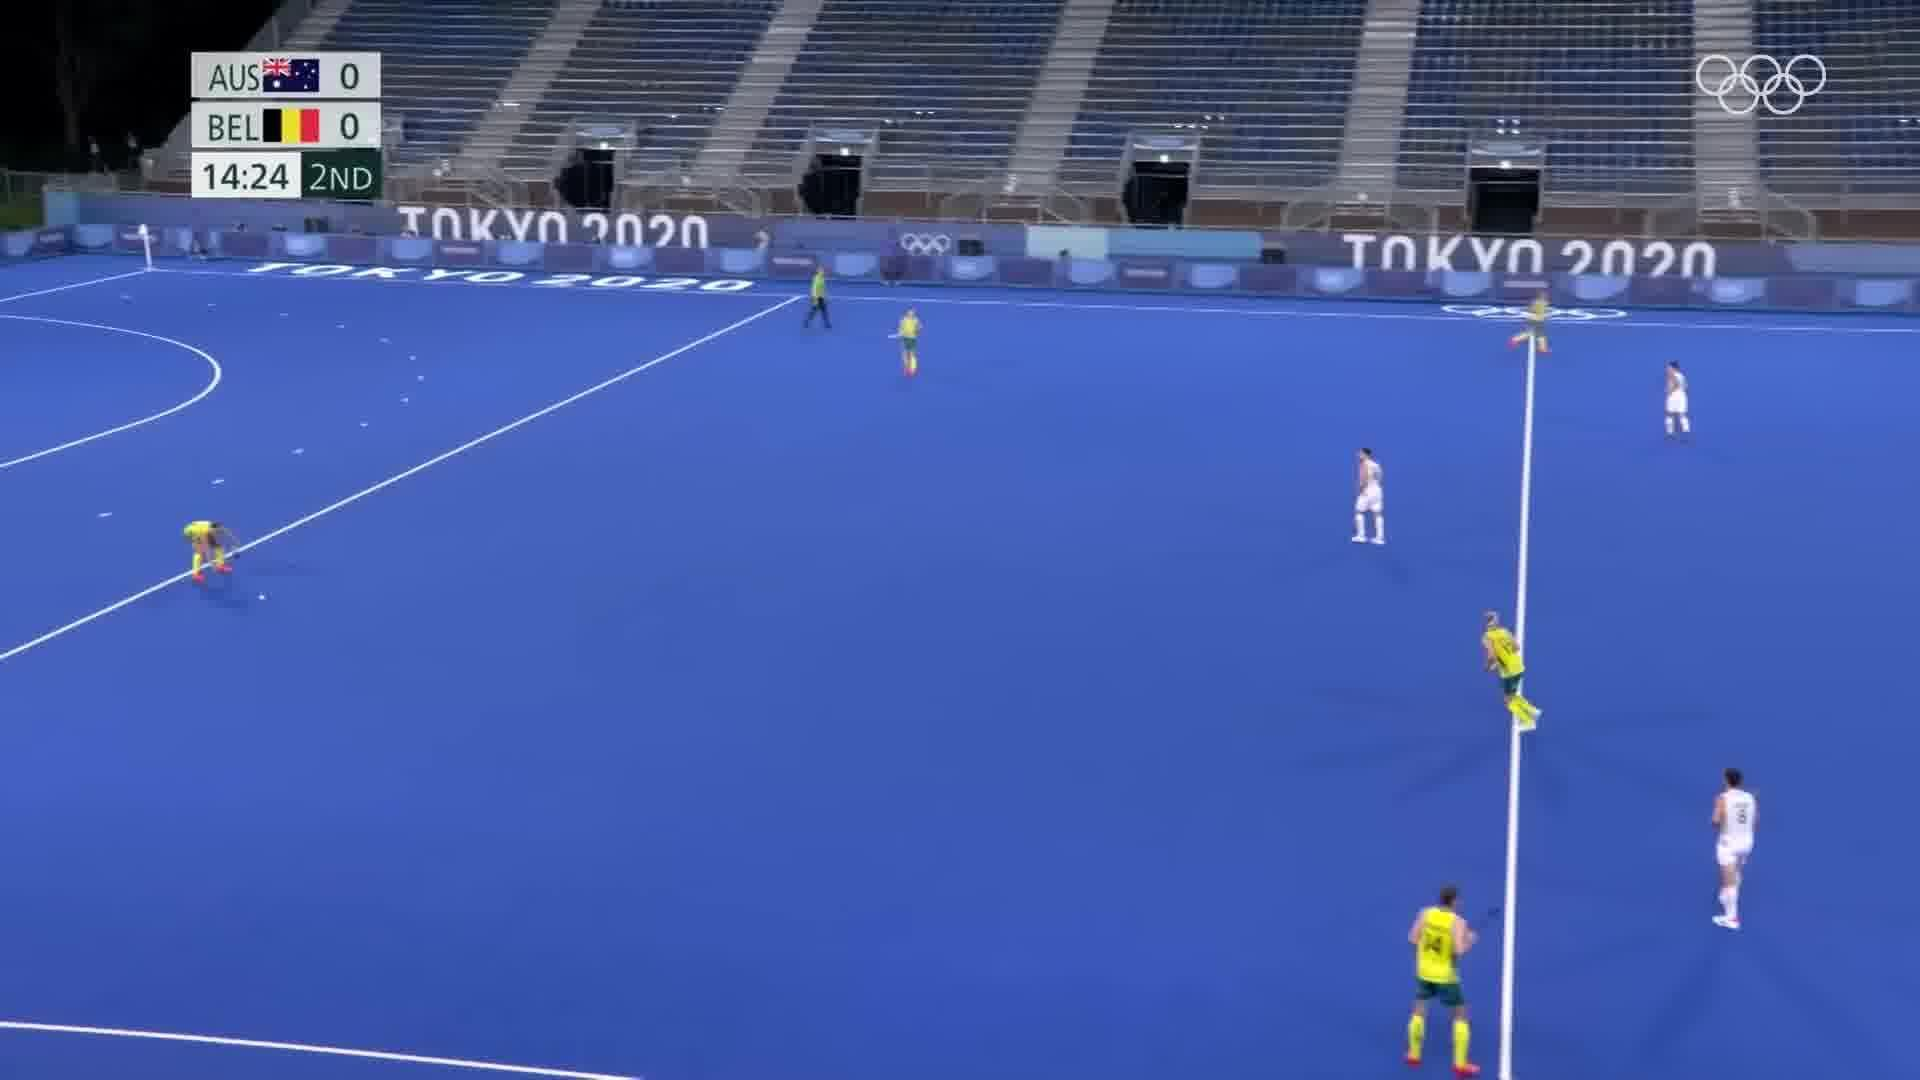ball: (252, 586, 274, 609)
